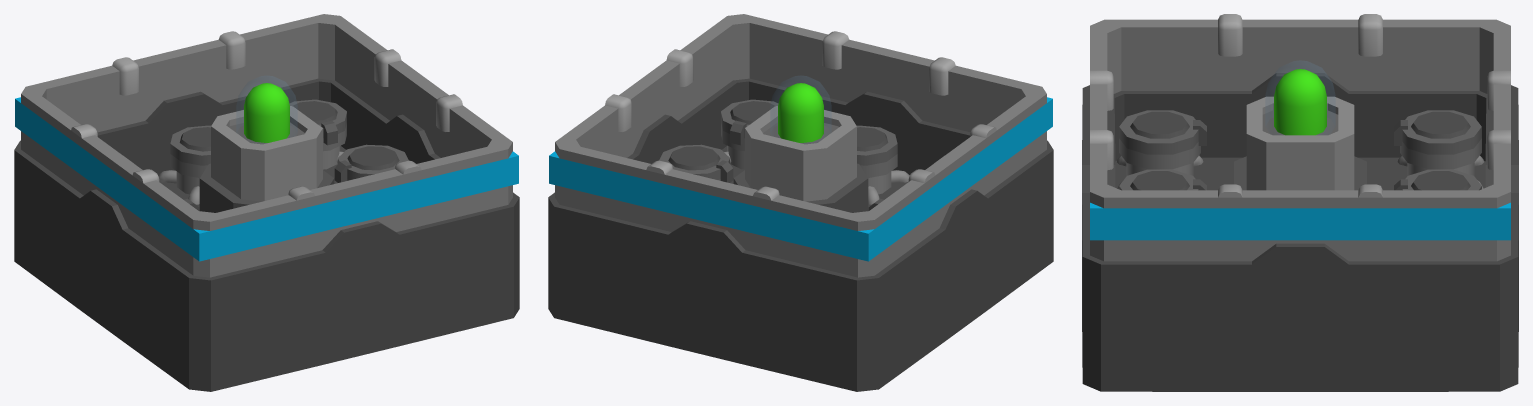
File: Mining_Field_Liquid_Green.fbx
3 renders of one model, left to right at view 1: azimuth 30°, elevation 25°; view 2: azimuth 150°, elevation 25°; view 3: azimuth 270°, elevation 25°, orthographic. The views are drawn at different scales.
Visible parts, largest first — view 1: Mining_Field_Liquid_Green; view 2: Mining_Field_Liquid_Green; view 3: Mining_Field_Liquid_Green.
Part boxes in pixels (bbox=[...]): Mining_Field_Liquid_Green: bbox=[14, 14, 519, 391]; Mining_Field_Liquid_Green: bbox=[548, 14, 1053, 391]; Mining_Field_Liquid_Green: bbox=[1082, 14, 1518, 391].
Bounding box in the file's own units: 622 × 371 × 622.
